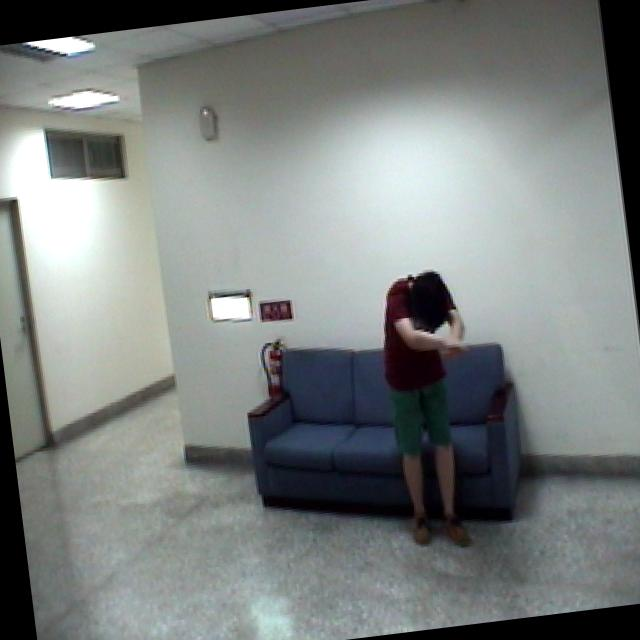bend: (366, 260, 503, 557)
